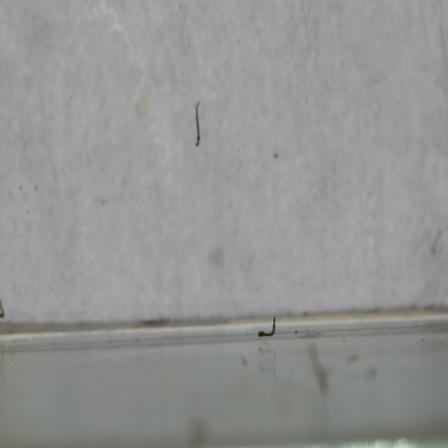Jentik-Nyamuk: (188, 100, 205, 151), (254, 314, 280, 341)
